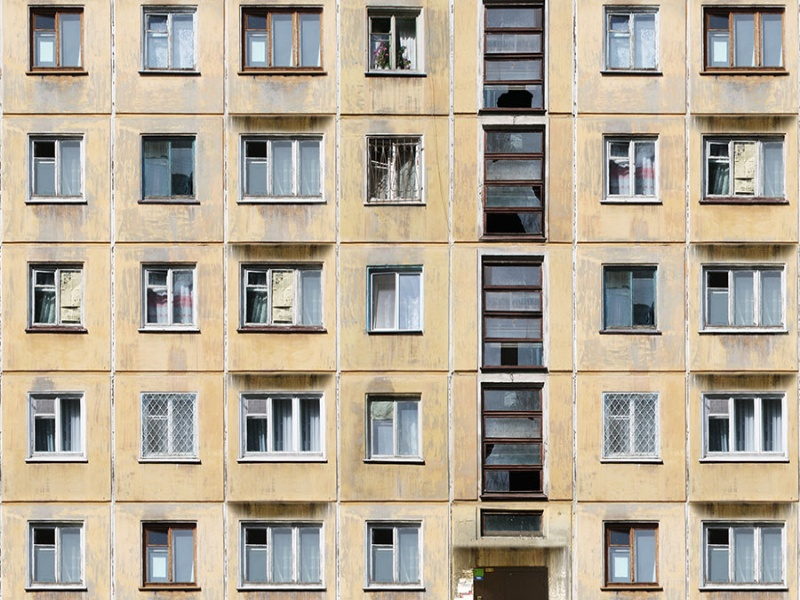window: (478, 383, 546, 497), (481, 4, 543, 113), (484, 126, 543, 238), (484, 258, 543, 367), (241, 389, 327, 456), (703, 260, 785, 330), (243, 519, 326, 588), (701, 133, 787, 199), (701, 392, 788, 456), (238, 5, 322, 71), (706, 5, 787, 73), (237, 262, 321, 327), (242, 132, 324, 196), (707, 521, 785, 582), (705, 397, 785, 452), (29, 517, 85, 591), (22, 389, 82, 457), (367, 521, 424, 592), (143, 516, 197, 589), (139, 1, 193, 73), (139, 131, 197, 198), (139, 258, 195, 326), (370, 130, 424, 200), (367, 2, 423, 69), (601, 4, 657, 71), (370, 395, 425, 463), (606, 521, 660, 590), (31, 257, 83, 328), (603, 392, 657, 460), (31, 2, 82, 73), (144, 393, 198, 460), (600, 390, 656, 452), (604, 129, 655, 196), (31, 135, 84, 198), (365, 268, 419, 329), (604, 266, 654, 327)
